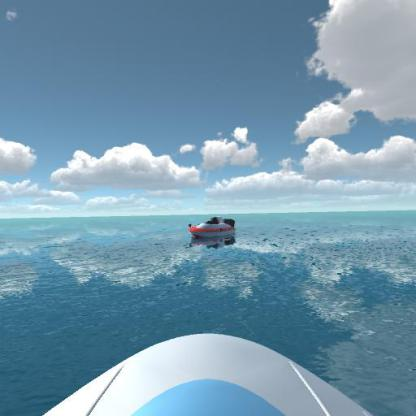usv3: (186, 211, 242, 243)
